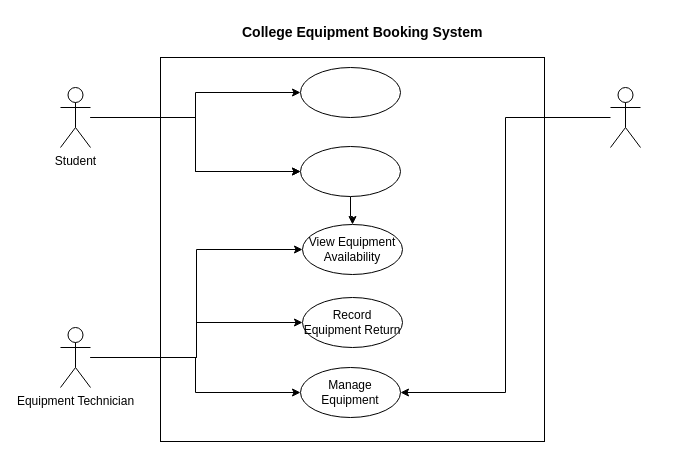
This 697x459 diagram has some shape labels left out. Here are the shapes that lost their labels. From the top down, the box of each, then its label:
(300, 66, 400, 118): Create Booking
(610, 86, 640, 148): Equipment Manager
(300, 146, 400, 196): Cancel Booking
